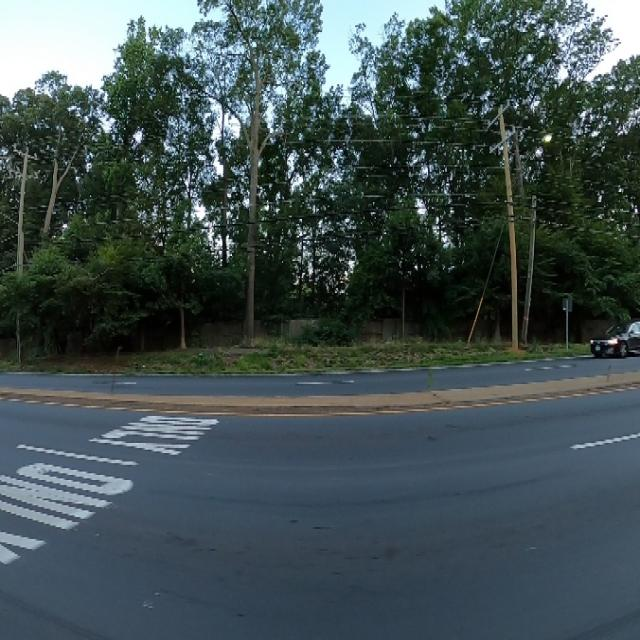car: (585, 305, 640, 367)
